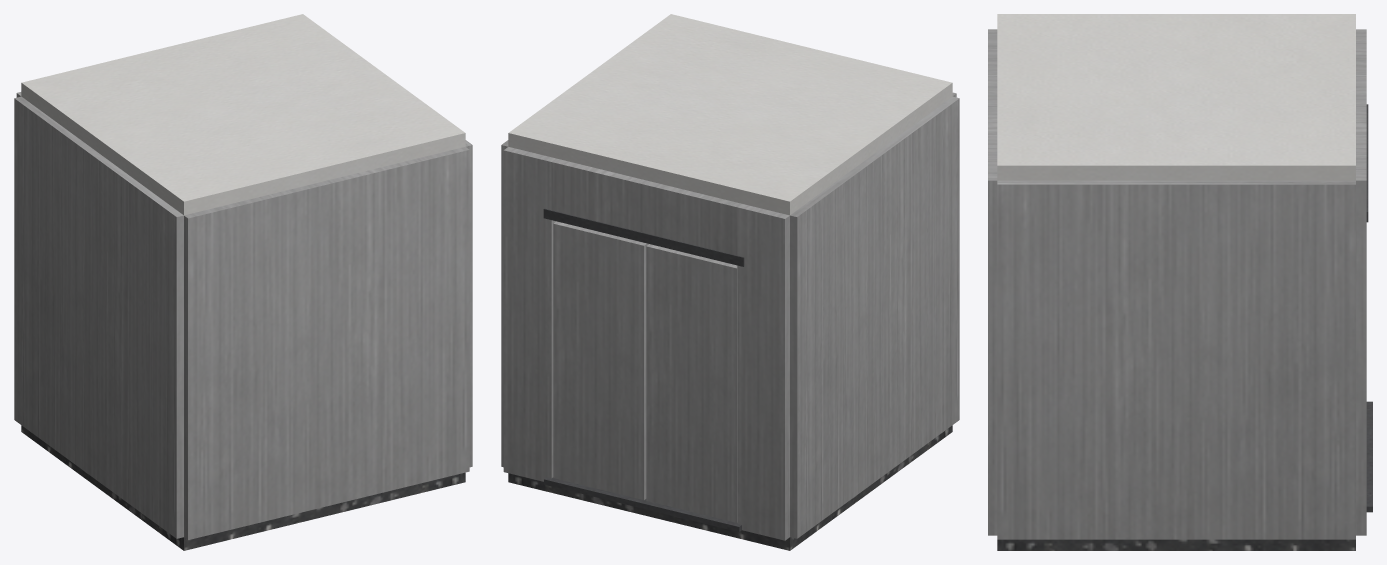
Rendered from 01_elevator_cabin_passenger.glb.
3 renders of one model, left to right at view 1: azimuth 30°, elevation 25°; view 2: azimuth 150°, elevation 25°; view 3: azimuth 270°, elevation 25°, orthographic. The views are drawn at different scales.
Parts seen in each view (by area): view 1: Cabin_Back, Cabin_Right, Cabin_Ceiling, Cabin_Floor, Cabin_Left; view 2: Cabin_Right, Cabin_Ceiling, InnerDoor_Left, InnerDoor_Right, Front_Right, Front_Left, Front_Header, Cabin_Floor, DoorTrack_Top, DoorTrack_Bottom, Cabin_Left; view 3: Cabin_Left, Cabin_Ceiling, Cabin_Back, Cabin_Floor, Front_Left, Front_Header, DoorTrack_Bottom.
Part boxes in pixels (<box>): Cabin_Back: <box>184,147,469,539</box>; Cabin_Right: <box>14,96,183,538</box>; Cabin_Ceiling: <box>21,14,465,215</box>; Cabin_Floor: <box>21,425,465,550</box>; Cabin_Left: <box>465,140,472,467</box>; Cabin_Right: <box>790,96,959,538</box>; Cabin_Ceiling: <box>508,14,952,215</box>; InnerDoor_Left: <box>553,221,648,499</box>; InnerDoor_Right: <box>646,244,737,522</box>; Front_Right: <box>737,204,789,540</box>; Front_Left: <box>503,147,555,481</box>; Front_Header: <box>551,158,741,255</box>; Cabin_Floor: <box>508,425,952,550</box>; DoorTrack_Top: <box>543,208,744,266</box>; DoorTrack_Bottom: <box>544,477,741,531</box>; Cabin_Left: <box>501,140,648,467</box>; Cabin_Left: <box>997,180,1355,539</box>; Cabin_Ceiling: <box>997,14,1355,180</box>; Cabin_Back: <box>988,29,997,535</box>; Cabin_Floor: <box>997,539,1355,550</box>; Front_Left: <box>1356,155,1366,535</box>; Front_Header: <box>1356,55,1366,154</box>; DoorTrack_Bottom: <box>1366,401,1372,512</box>.
Size of the model in its own units: 2.47 by 2.79 by 2.52.
10 materials, 8 textured.
